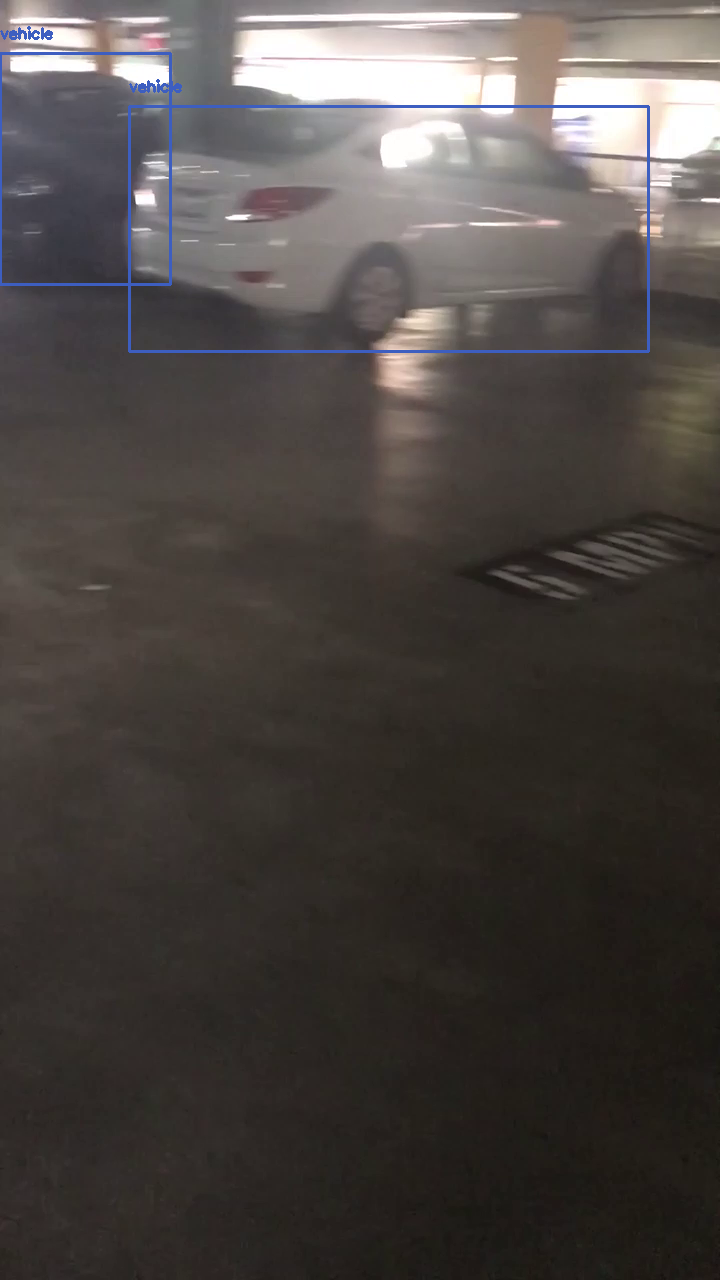vehicle: (129, 106, 648, 351), (0, 53, 170, 284)
